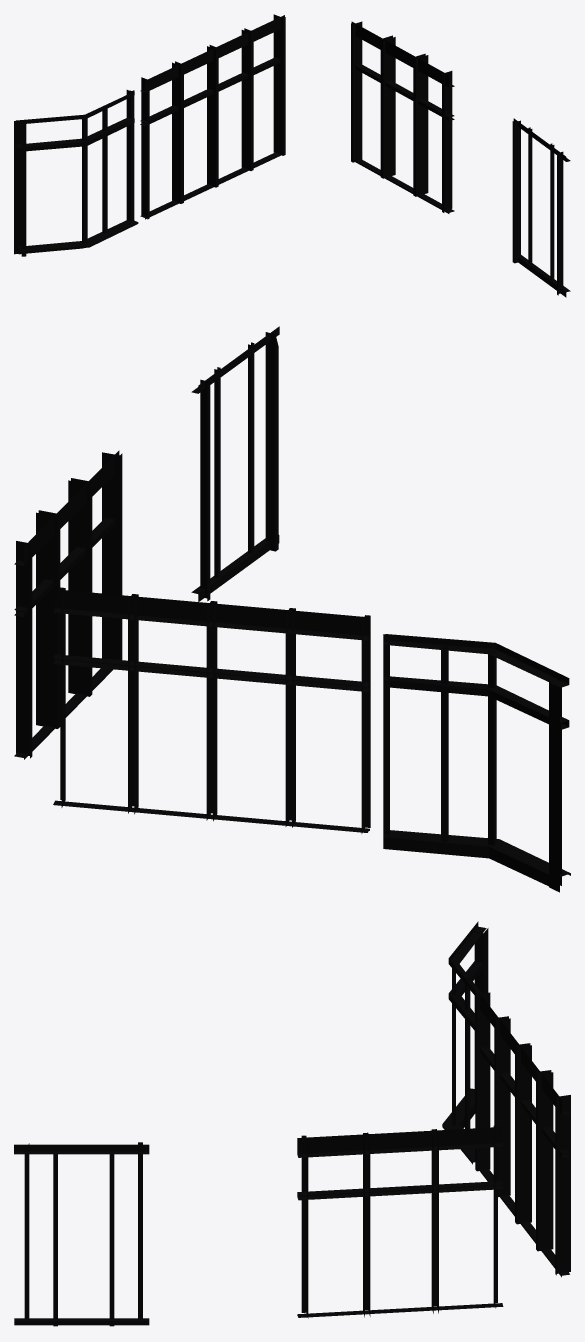
The model's file is FrameWindows.fbx.
The picture shows the model from 3 angles, top to bottom: view 1: azimuth 30°, elevation 25°; view 2: azimuth 150°, elevation 25°; view 3: azimuth 270°, elevation 25°; orthographic projection. The views are drawn at different scales.
Parts seen in each view (by area): view 1: Frame; view 2: Frame; view 3: Frame.
Part boxes in pixels (left/top/right/bottom): Frame: left=14, top=14, right=570, bottom=297; Frame: left=14, top=326, right=570, bottom=892; Frame: left=14, top=921, right=570, bottom=1326.
Size of the model in its own units: 8.05 by 2.98 by 8.09.
